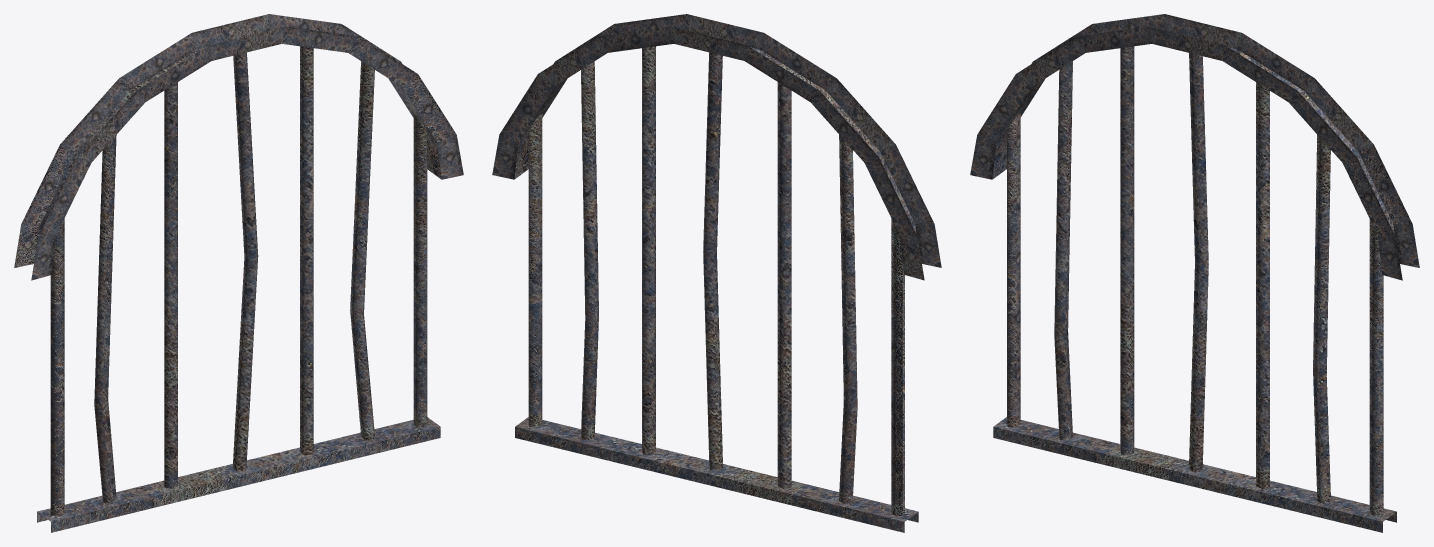
File: wall_door 2_door.FBX
The picture shows the model from 3 angles, left to right: view 1: azimuth 30°, elevation 25°; view 2: azimuth 150°, elevation 25°; view 3: azimuth 330°, elevation 25°; orthographic projection.
Parts seen in each view (by area): view 1: wall_door 2_door; view 2: wall_door 2_door; view 3: wall_door 2_door.
Part boxes in pixels (box(x1,y1,x2,y2)): wall_door 2_door: box(14, 14, 463, 532); wall_door 2_door: box(492, 14, 941, 532); wall_door 2_door: box(970, 14, 1419, 532).
Size of the model in its own units: 43.05 by 42.86 by 2.95.
